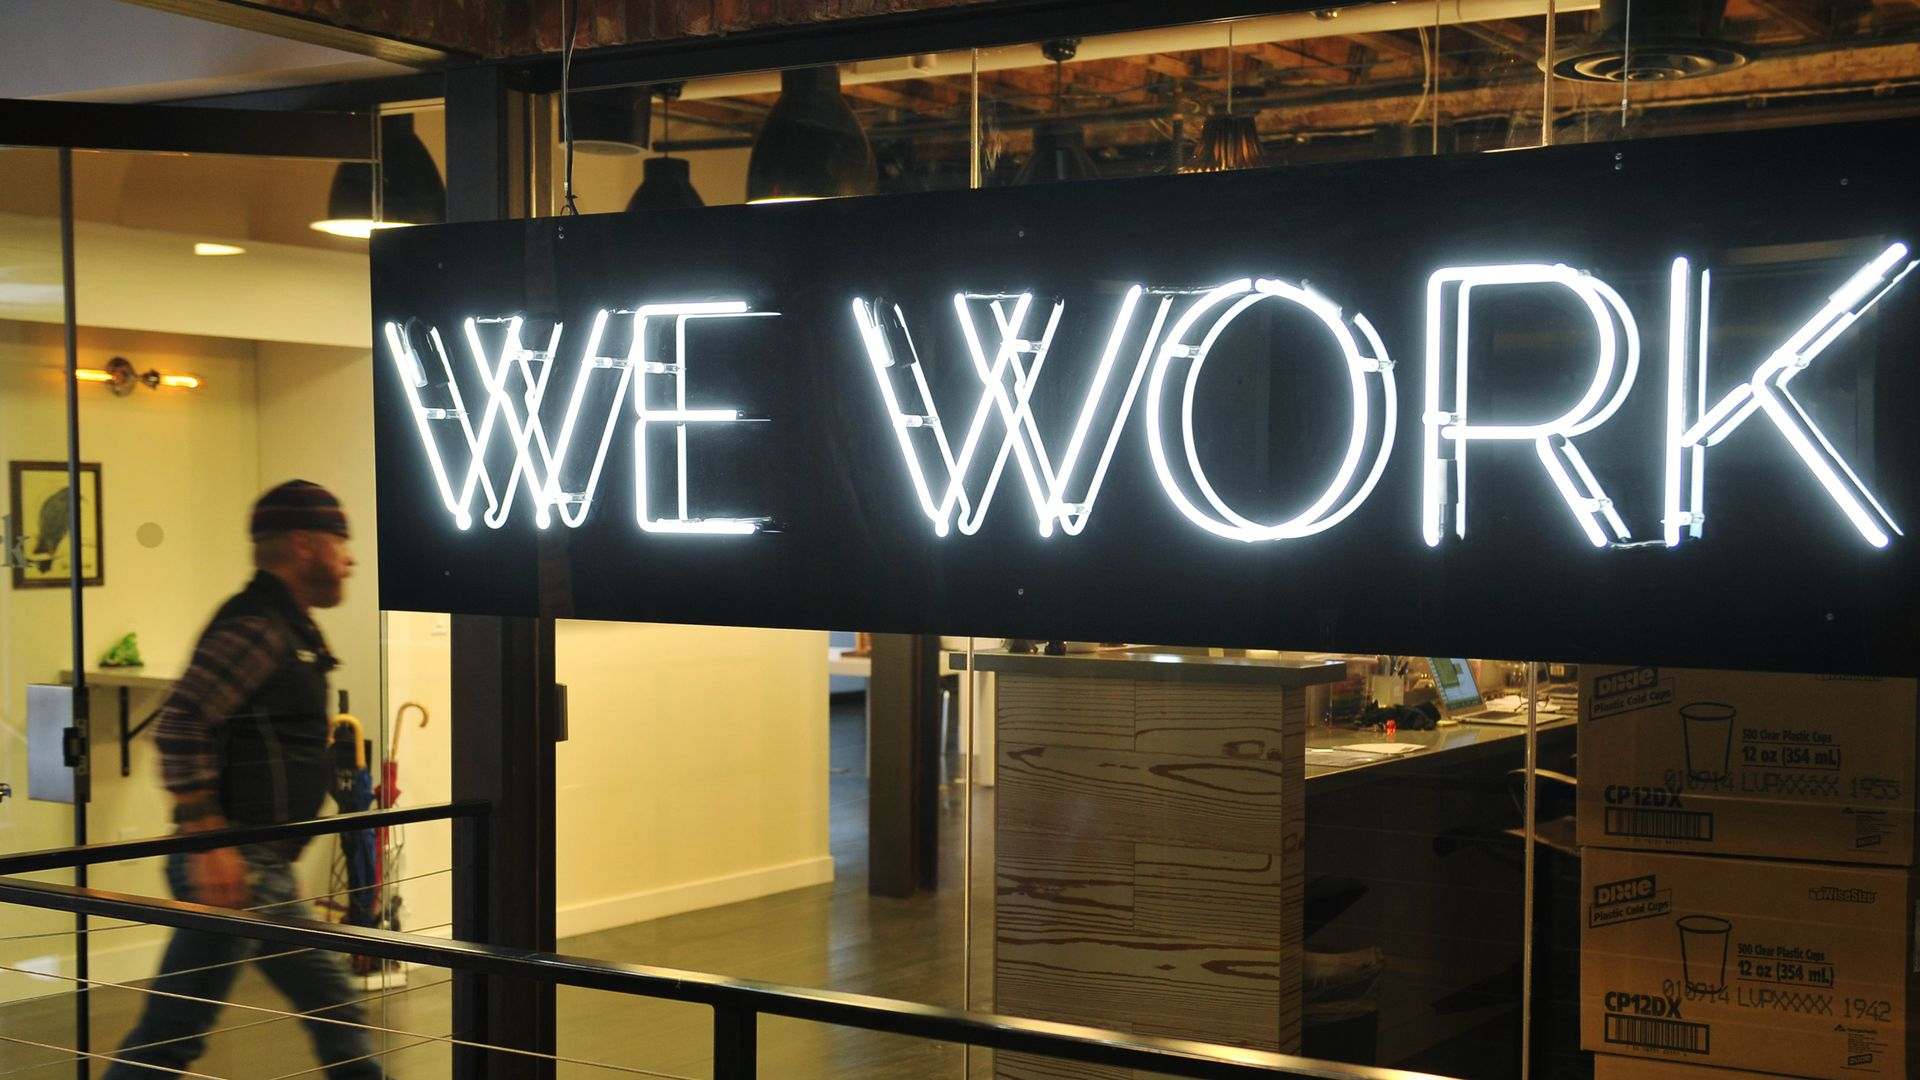wework: (378, 241, 1913, 562)
